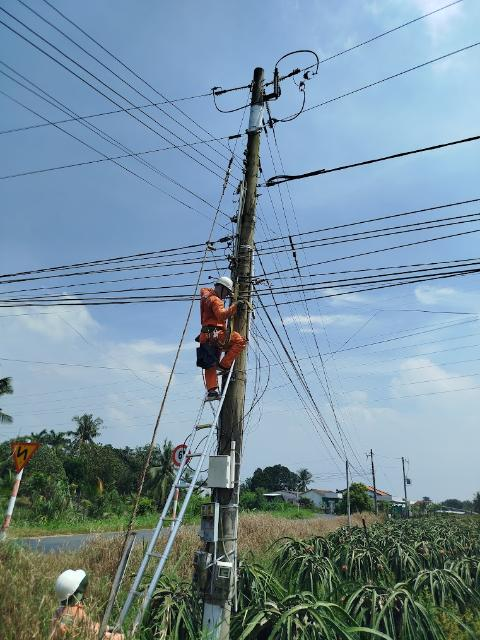gloves: (229, 298, 257, 313)
harness: (185, 320, 233, 343)
helmet: (56, 553, 93, 602), (205, 273, 236, 299)
shoes: (200, 389, 229, 406), (214, 364, 243, 377)
